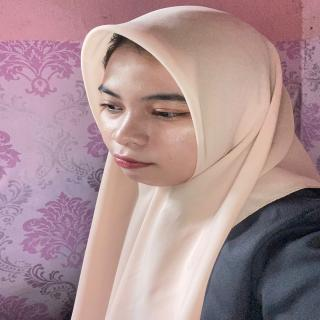Sedih: (95, 33, 214, 190)
